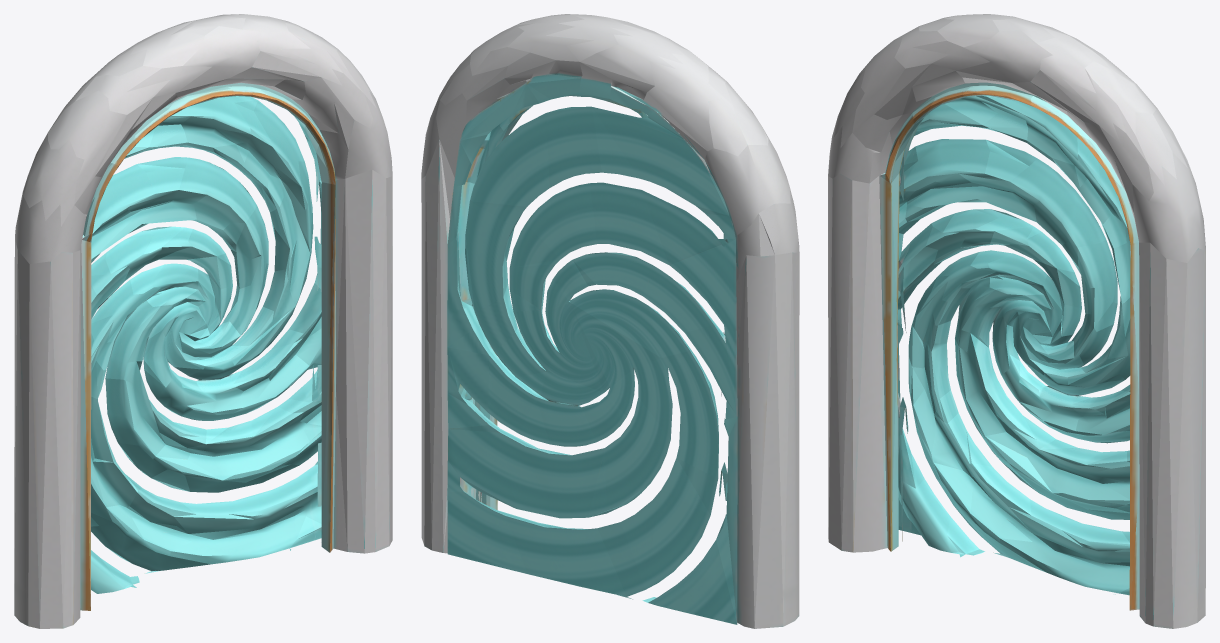
File: game-portal.glb
3 renders of one model, left to right at view 1: azimuth 30°, elevation 25°; view 2: azimuth 150°, elevation 25°; view 3: azimuth 330°, elevation 25°, orthographic.
Visible parts, largest first — view 1: Mesh_0; view 2: Mesh_0; view 3: Mesh_0.
Part boxes in pixels (box(x1,y1,x2,y2)): Mesh_0: box(14, 14, 392, 628); Mesh_0: box(421, 14, 799, 628); Mesh_0: box(828, 14, 1205, 628).
Size of the model in its own units: 1.32 by 1.9 by 0.2234.
Materials: 1 (1 with a texture image).
